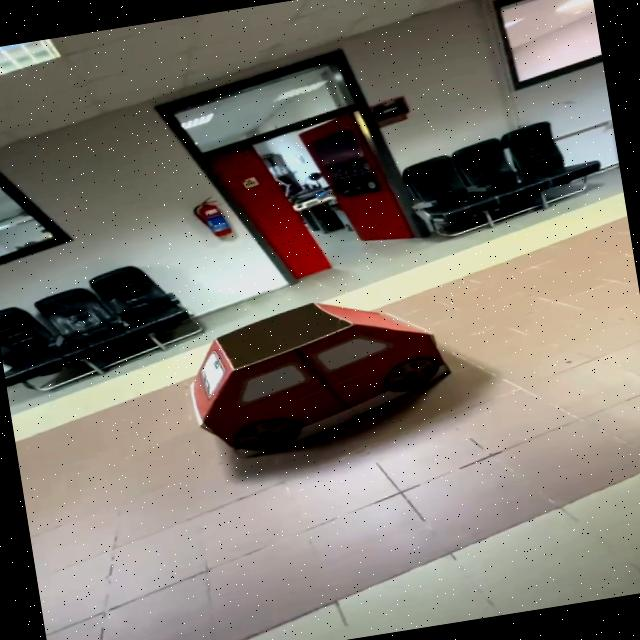red_car: (143, 258, 508, 478)
